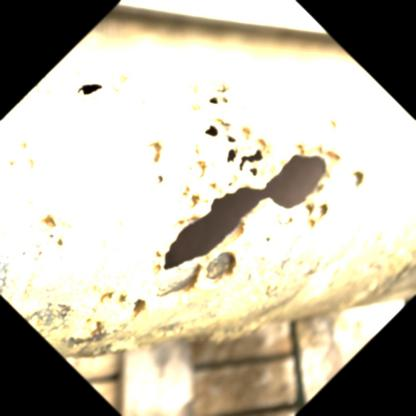burst: (147, 152, 346, 275)
